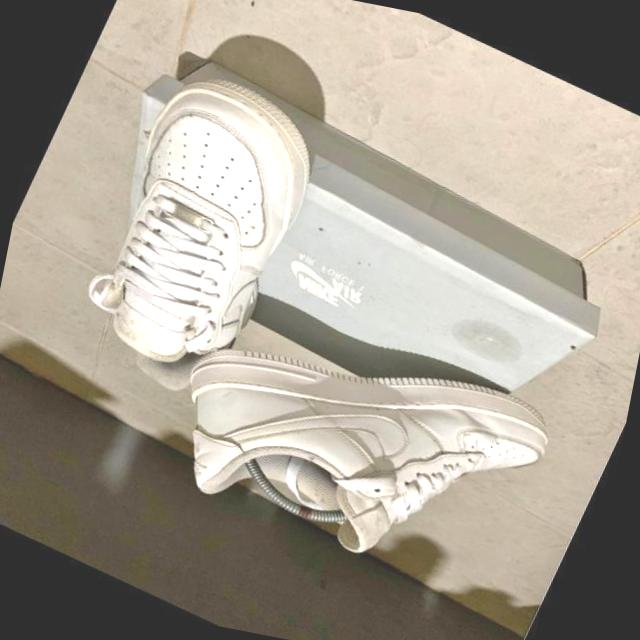nike_fake_airforce: (128, 256, 579, 628), (48, 38, 344, 421)
